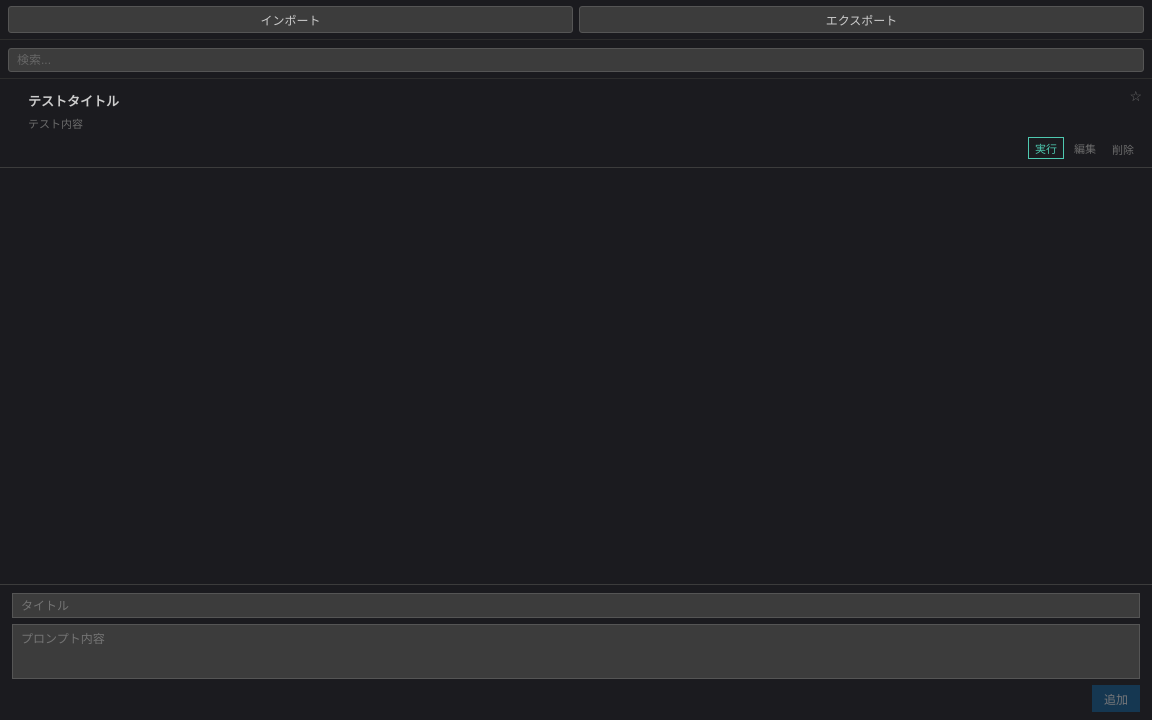
PromptsPanel › 検索 UI › 一致なしのとき no-results メッセージが表示される
Type "存在しないキーワード" into the search field.
click(576, 60); type("存在しないキーワード")  # box [8,48,1144,72]
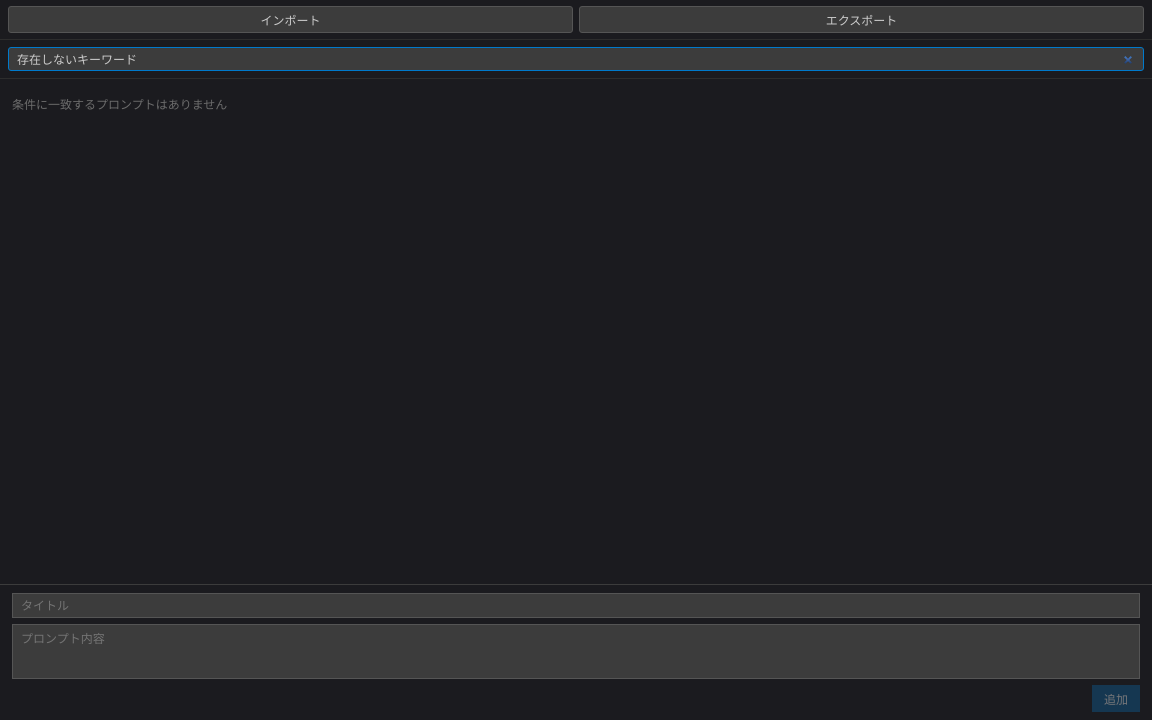
Check: the text "条件に一致するプロンプトはありません" is shown, box [12,97,227,112]
